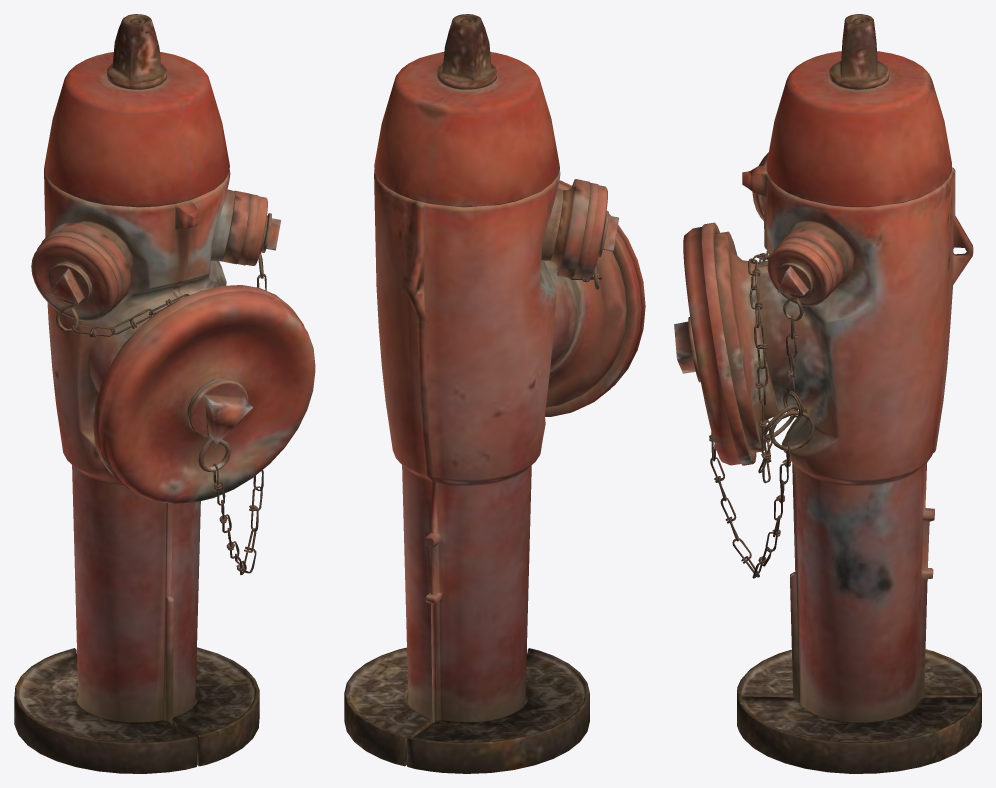
File: fire_hydrant.glb
The picture shows the model from 3 angles, left to right: view 1: azimuth 30°, elevation 25°; view 2: azimuth 150°, elevation 25°; view 3: azimuth 270°, elevation 25°; orthographic projection.
Visible parts, largest first — view 1: fire_hydrant_aged, fire_hydrant_cap_01_aged, fire_hydrant_cap_03_aged, fire_hydrant_chain_aged, fire_hydrant_cap_02_aged; view 2: fire_hydrant_aged, fire_hydrant_cap_01_aged, fire_hydrant_cap_03_aged; view 3: fire_hydrant_aged, fire_hydrant_cap_01_aged, fire_hydrant_chain_aged, fire_hydrant_cap_02_aged.
Part boxes in pixels (<box>): fire_hydrant_aged: <box>14,14,259,773</box>; fire_hydrant_cap_01_aged: <box>93,285,315,503</box>; fire_hydrant_cap_03_aged: <box>31,231,122,321</box>; fire_hydrant_chain_aged: <box>56,215,267,574</box>; fire_hydrant_cap_02_aged: <box>238,194,280,265</box>; fire_hydrant_aged: <box>344,14,626,773</box>; fire_hydrant_cap_01_aged: <box>545,180,645,416</box>; fire_hydrant_cap_03_aged: <box>573,182,618,279</box>; fire_hydrant_aged: <box>714,14,981,773</box>; fire_hydrant_cap_01_aged: <box>674,222,756,465</box>; fire_hydrant_chain_aged: <box>709,250,814,578</box>; fire_hydrant_cap_02_aged: <box>767,238,836,306</box>.
Size of the model in its own units: 0.2746 by 0.7995 by 0.3173.
1 material, 1 textured.
